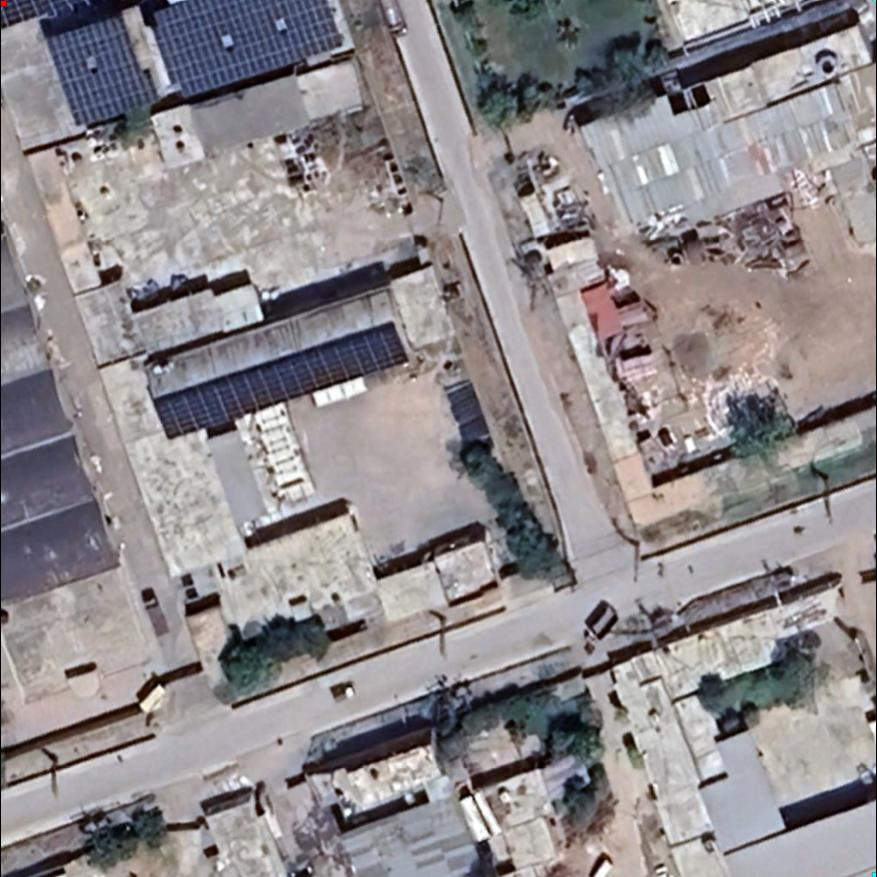Solarpanel: (135, 312, 423, 445), (144, 0, 359, 116), (41, 6, 169, 135)
